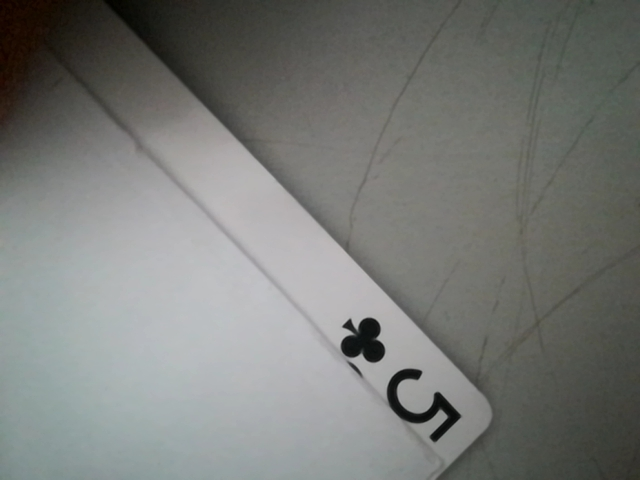mh 5: (328, 309, 476, 454)
